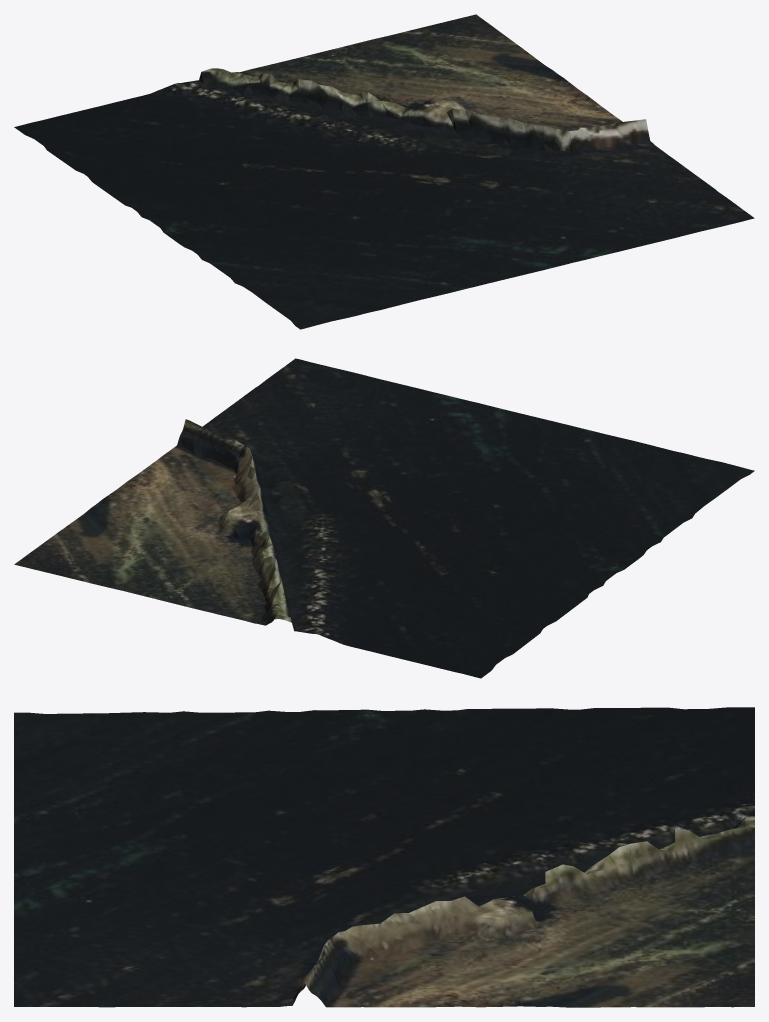
3 views of the same model, one above another, from view 1: azimuth 30°, elevation 25°; view 2: azimuth 150°, elevation 25°; view 3: azimuth 270°, elevation 25° (orthographic). The views are drawn at different scales.
Bounding box in the file's own units: 200 × 9.6 × 209.
Materials: 2 (2 with a texture image).
